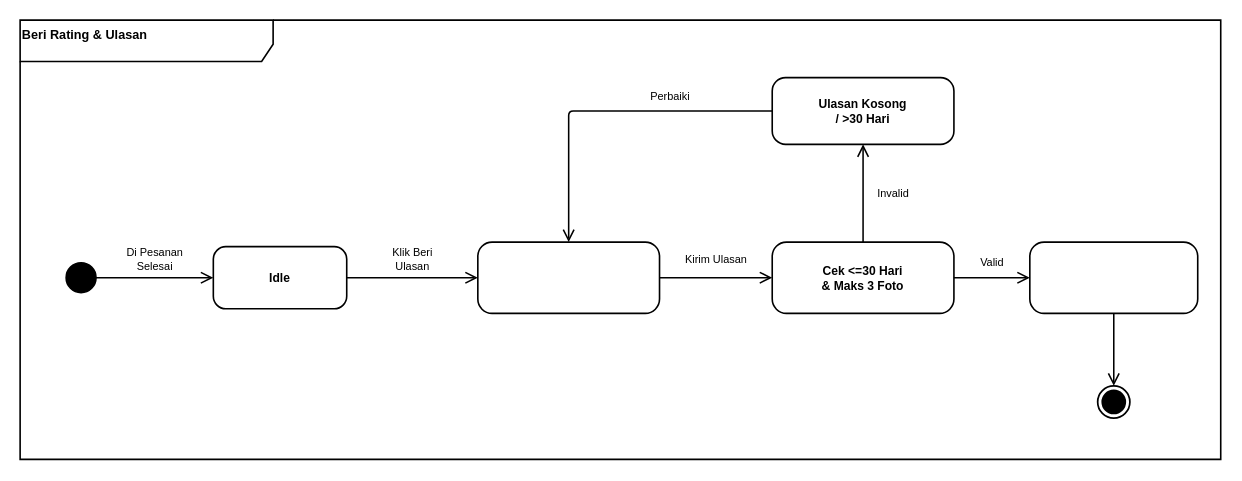
The diagram is 1242 pixels wide and 481 high, and some of its shapes have lost their labels. Here are the shapes that lost their labels. From the top down, the centre of each, then its label:
the point at 568,277: Form Rating & Ulasan
the point at 1113,277: Ulasan Produk Terbit
